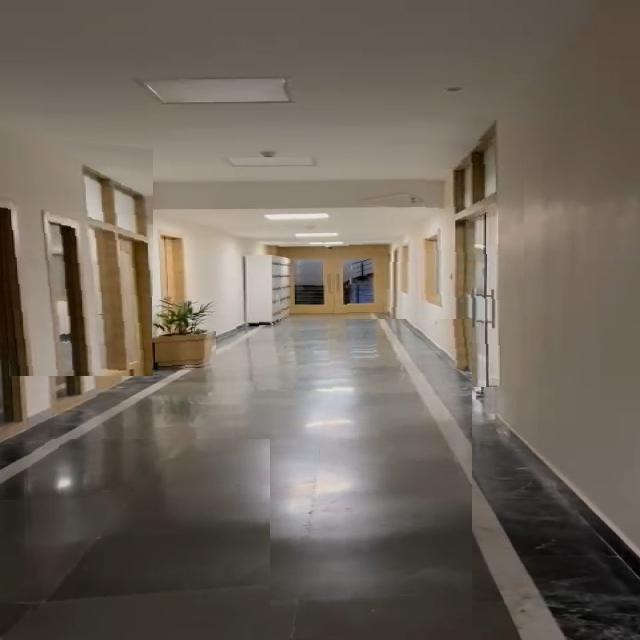door: (0, 134, 153, 376), (417, 136, 524, 387), (281, 240, 413, 320)
floor: (225, 319, 472, 640), (24, 439, 270, 640)
furniture: (152, 296, 217, 371)
